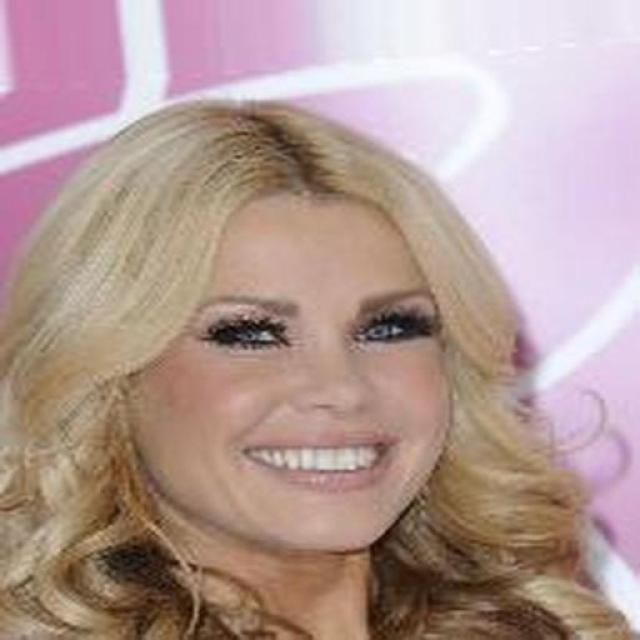bareface: (172, 230, 432, 545)
